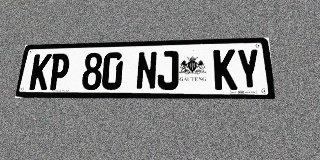0: (101, 52, 123, 90)
8: (81, 53, 104, 90)
J: (157, 51, 179, 90)
K: (213, 49, 237, 90), (29, 54, 52, 90)
N: (136, 51, 157, 90)
P: (47, 53, 71, 90)
Y: (236, 49, 262, 90)
